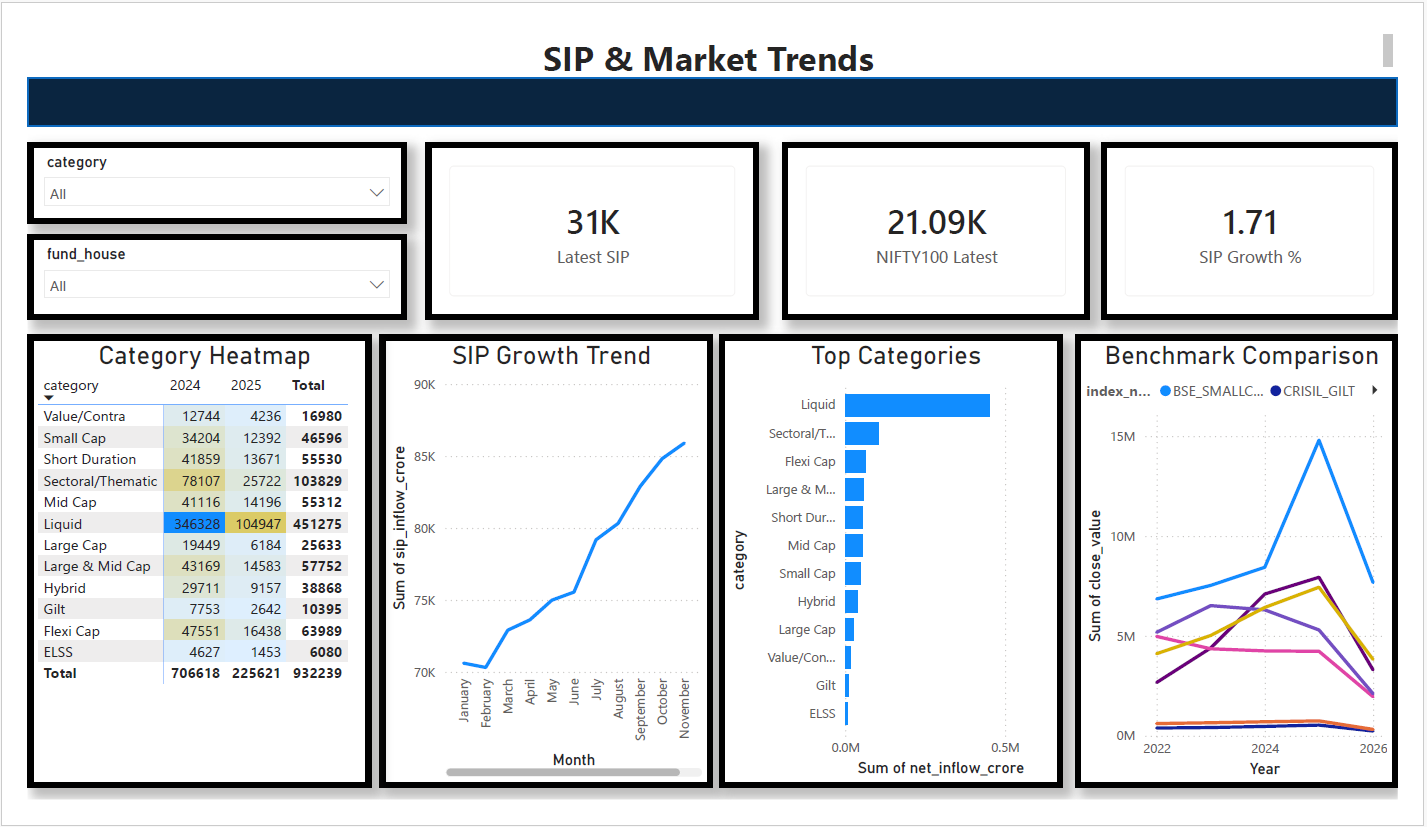

This screenshot's page, from the dashboard's own definition file:
{"tool":"powerbi","page":{"name":"SIP & Market Trends","canvas":[1280,720],"ordinal":3},"visuals":[{"type":"textbox","box":[0,0,1280,46.2],"z":0},{"type":"shape","box":[0,46.2,1280,44.6],"z":1},{"type":"slicer","fields":{"Values":["05_category_inflows.category"]},"box":[0,106.2,353.8,75.4],"z":2},{"type":"slicer","fields":{"Values":["03_aum_by_fund_house.fund_house"]},"box":[0,192.3,353.8,80],"z":3},{"type":"cardVisual","fields":{"Data":["03_aum_by_fund_house.NIFTY100 Latest"]},"box":[704.6,106.2,287.7,166.2],"z":4},{"type":"cardVisual","fields":{"Data":["03_aum_by_fund_house.SIP Growth %"]},"box":[1003.1,106.2,276.9,166.2],"z":5},{"type":"cardVisual","fields":{"Data":["03_aum_by_fund_house.Latest SIP"]},"box":[372.3,106.2,310.8,166.2],"z":6},{"type":"lineChart","title":"SIP Growth Trend","fields":{"Y":["Sum(04_monthly_sip_inflows.sip_inflow_crore)"],"Category":["04_monthly_sip_inflows.month.Variation.Date Hierarchy.Month"]},"box":[329.1,286.4,310.9,422.7],"z":7},{"type":"pivotTable","title":"Category Heatmap","fields":{"Rows":["05_category_inflows.category"],"Columns":["05_category_inflows.month.Variation.Date Hierarchy.Year","05_category_inflows.month.Variation.Date Hierarchy.Quarter","05_category_inflows.month.Variation.Date Hierarchy.Month","05_category_inflows.month.Variation.Date Hierarchy.Day"],"Values":["Sum(05_category_inflows.net_inflow_crore)"]},"box":[0,285.7,321.4,422.9],"z":8},{"type":"barChart","title":"Top Categories","fields":{"Category":["05_category_inflows.category"],"Y":["Sum(05_category_inflows.net_inflow_crore)"]},"box":[645.7,285.7,321.4,422.9],"z":9},{"type":"lineChart","title":"Benchmark Comparison","fields":{"Category":["10_benchmark_indices.date.Variation.Date Hierarchy.Year","10_benchmark_indices.date.Variation.Date Hierarchy.Quarter","10_benchmark_indices.date.Variation.Date Hierarchy.Month","10_benchmark_indices.date.Variation.Date Hierarchy.Day"],"Y":["Sum(10_benchmark_indices.close_value)"],"Series":["10_benchmark_indices.index_name"]},"box":[978.6,285.7,301.4,422.9],"z":10}]}

Visuals, with their boxes in screenshot pixels (x1, y1, x2, y2), scaled from the page's 1280x720 canvas onto the 1427x827 screenshot:
textbox: <bbox>0, 0, 1426, 53</bbox>
shape: <bbox>0, 53, 1426, 104</bbox>
slicer - 05_category_inflows.category: <bbox>0, 122, 394, 209</bbox>
slicer - 03_aum_by_fund_house.fund_house: <bbox>0, 221, 394, 313</bbox>
cardVisual - 03_aum_by_fund_house.NIFTY100 Latest: <bbox>786, 122, 1106, 313</bbox>
cardVisual - 03_aum_by_fund_house.SIP Growth %: <bbox>1118, 122, 1426, 313</bbox>
cardVisual - 03_aum_by_fund_house.Latest SIP: <bbox>415, 122, 762, 313</bbox>
"SIP Growth Trend" lineChart: <bbox>367, 329, 714, 814</bbox>
"Category Heatmap" pivotTable: <bbox>0, 328, 358, 814</bbox>
"Top Categories" barChart: <bbox>720, 328, 1078, 814</bbox>
"Benchmark Comparison" lineChart: <bbox>1091, 328, 1426, 814</bbox>
